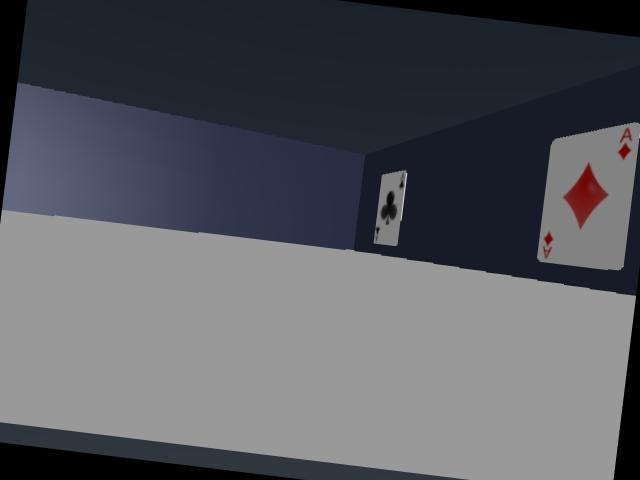club: (373, 171, 405, 245)
diamond: (537, 123, 639, 270)
